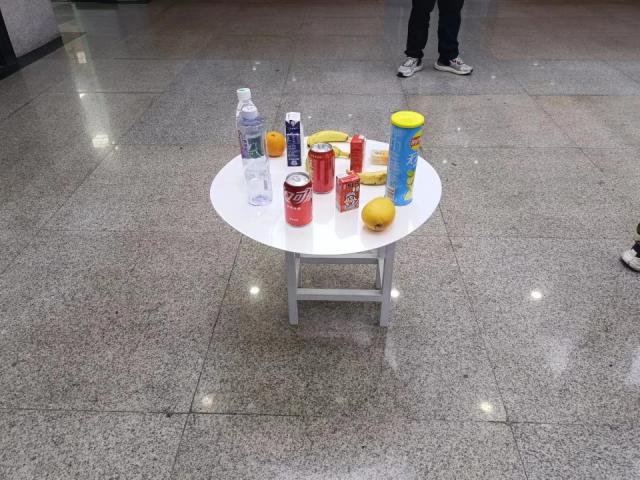Canned_drinks: (283, 171, 314, 228), (306, 143, 336, 195)
bottle: (237, 105, 274, 208), (233, 87, 263, 170)
cylinder: (385, 110, 425, 207)
drink_box: (335, 170, 361, 214), (284, 111, 303, 168), (349, 133, 366, 173)
